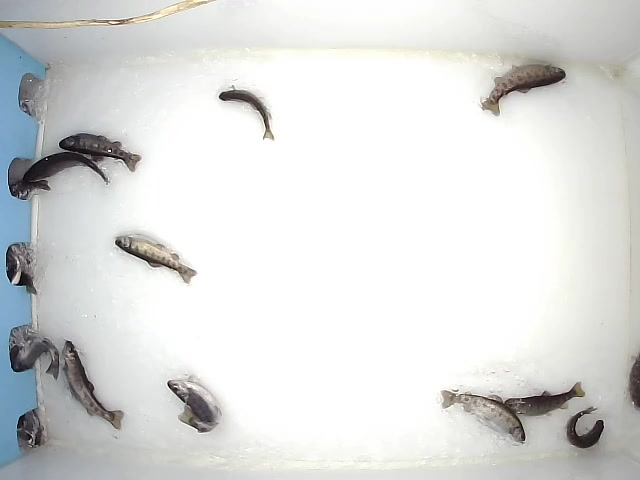fish: (60, 339, 125, 433), (478, 63, 566, 119), (439, 388, 526, 442), (112, 232, 199, 285), (55, 130, 143, 173), (163, 373, 223, 434), (217, 84, 277, 142), (18, 150, 113, 185), (502, 379, 586, 418), (563, 405, 606, 450)
